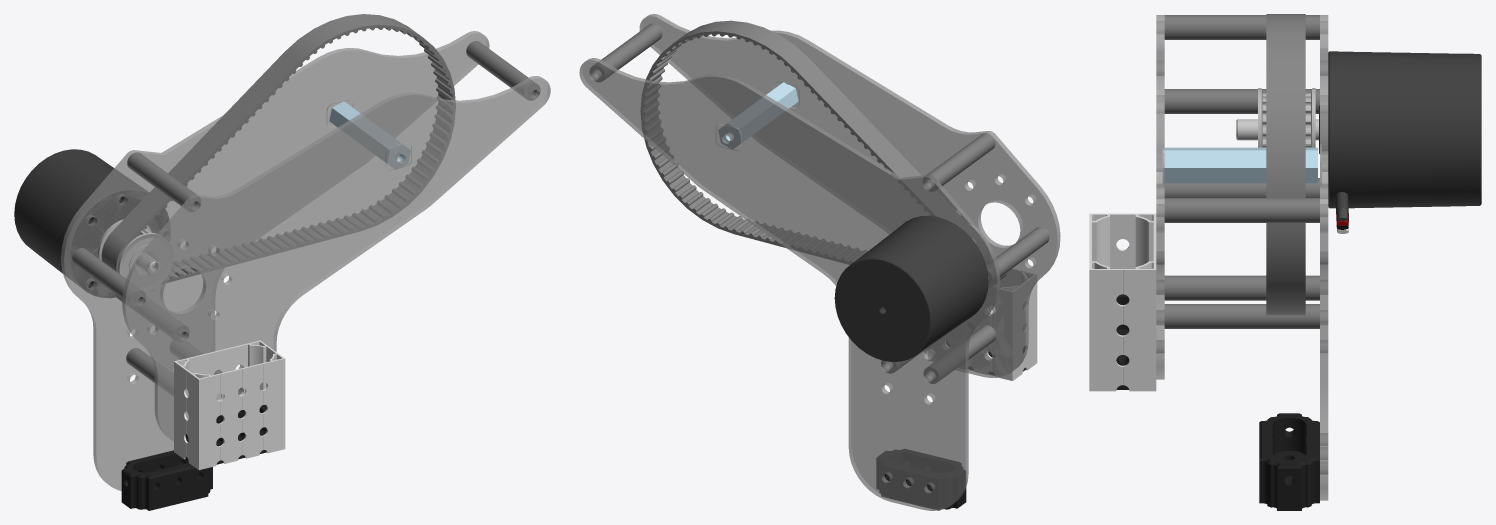
3 views of the same model, side by side, from view 1: azimuth 30°, elevation 25°; view 2: azimuth 150°, elevation 25°; view 3: azimuth 270°, elevation 25° (orthographic). The views are drawn at different scales.
Visible parts, largest first — view 1: Part 12, Part 17, 100T HTD Belt, MAXTube, 1x1x47", NEO Brushless Motor V1.1, Part 15 (×5), MAXTube Endcap - 2x1 Light (REV-21-2711), 18t 15mm Wide 1/2" Hex Bore Double Flange 5mm HTD Aluminum P, Part 13; view 2: Part 17, Part 12, NEO Brushless Motor V1.1, 100T HTD Belt, Part 15 (×4), MAXTube, 1x1x47", MAXTube Endcap - 2x1 Light (REV-21-2711), Part 13; view 3: NEO Brushless Motor V1.1, Part 15 (×6), MAXTube, 1x1x47", 100T HTD Belt, MAXTube Endcap - 2x1 Light (REV-21-2711), Part 17, Part 13, Part 12, 18t 15mm Wide 1/2" Hex Bore Double Flange 5mm HTD Aluminum P.
Boxes of the visible parts, x1,y1,x2,y2 form: Part 12: [122, 76, 550, 441]; Part 17: [61, 31, 489, 490]; 100T HTD Belt: [101, 14, 455, 283]; MAXTube, 1x1x47": [174, 340, 285, 469]; NEO Brushless Motor V1.1: [14, 149, 168, 297]; Part 15 (×5): [72, 41, 540, 396]; MAXTube Endcap - 2x1 Light (REV-21-2711): [121, 450, 212, 510]; 18t 15mm Wide 1/2" Hex Bore Double Flange 5mm HTD Aluminum P: [98, 219, 173, 291]; Part 13: [329, 101, 410, 170]; Part 17: [579, 58, 1000, 510]; Part 12: [639, 14, 1060, 377]; NEO Brushless Motor V1.1: [834, 215, 988, 361]; 100T HTD Belt: [640, 20, 987, 264]; Part 15 (×4): [589, 23, 1049, 383]; MAXTube, 1x1x47": [928, 268, 1037, 380]; MAXTube Endcap - 2x1 Light (REV-21-2711): [876, 449, 966, 510]; Part 13: [718, 82, 798, 148]; NEO Brushless Motor V1.1: [1236, 51, 1481, 233]; Part 15 (×6): [1164, 15, 1319, 328]; MAXTube, 1x1x47": [1089, 213, 1156, 391]; 100T HTD Belt: [1266, 14, 1305, 315]; MAXTube Endcap - 2x1 Light (REV-21-2711): [1259, 413, 1319, 510]; Part 17: [1320, 15, 1328, 500]; Part 13: [1162, 147, 1317, 183]; Part 12: [1156, 15, 1164, 379]; 18t 15mm Wide 1/2" Hex Bore Double Flange 5mm HTD Aluminum P: [1258, 88, 1315, 147].
Bounding box in the file's own units: 0.2499 × 0.2412 × 0.1491.
